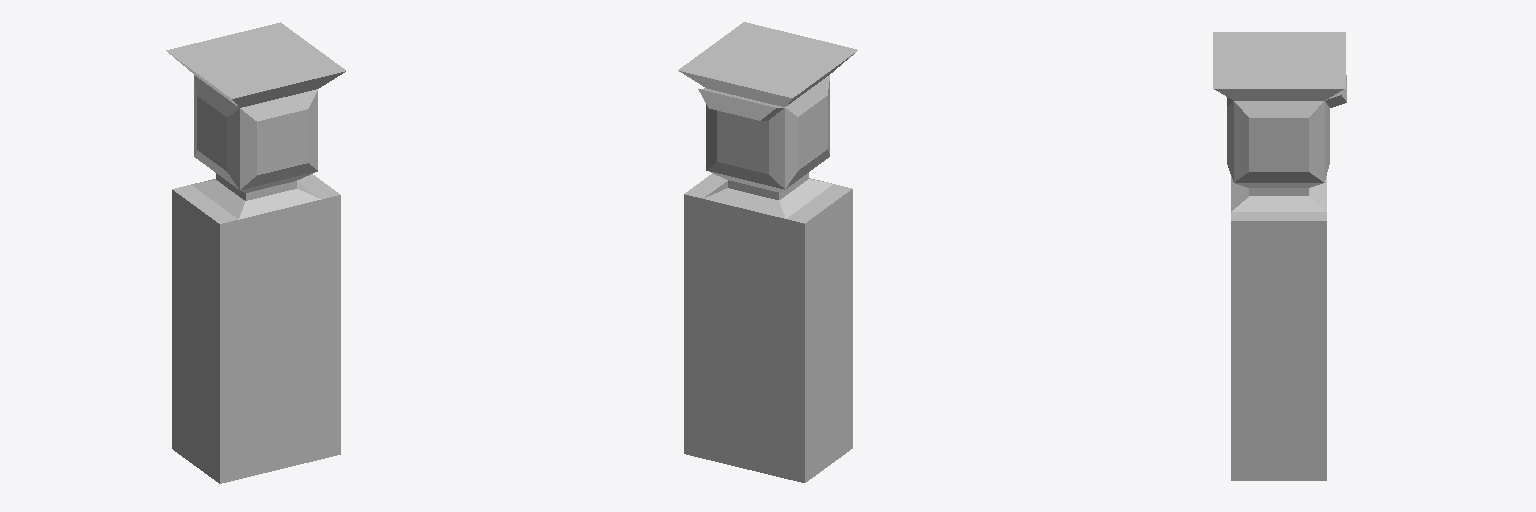
The model's file is cop.obj.
3 renders of one model, left to right at view 1: azimuth 30°, elevation 25°; view 2: azimuth 150°, elevation 25°; view 3: azimuth 270°, elevation 25°, orthographic.
Parts seen in each view (by area): view 1: group[number redacted]; view 2: group[number redacted]; view 3: group[number redacted].
Boxes of the visible parts, <box> form: group[number redacted]: <box>166,22,345,483</box>; group[number redacted]: <box>678,22,857,482</box>; group[number redacted]: <box>1213,32,1346,480</box>.
Bounding box in the file's own units: 0.9551 × 2.95 × 0.9189.